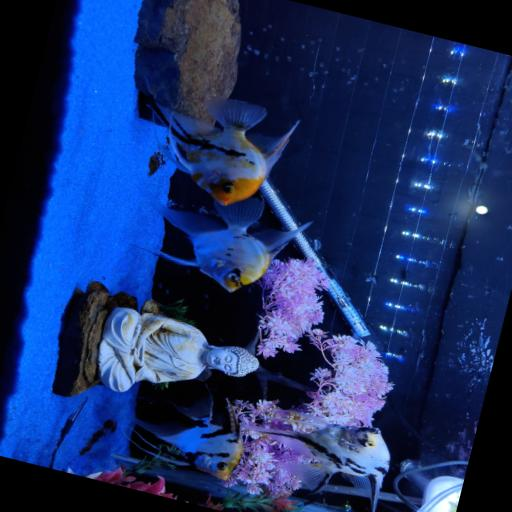Fish: (140, 188, 310, 291), (147, 98, 298, 206), (239, 416, 389, 511), (134, 394, 242, 480)
